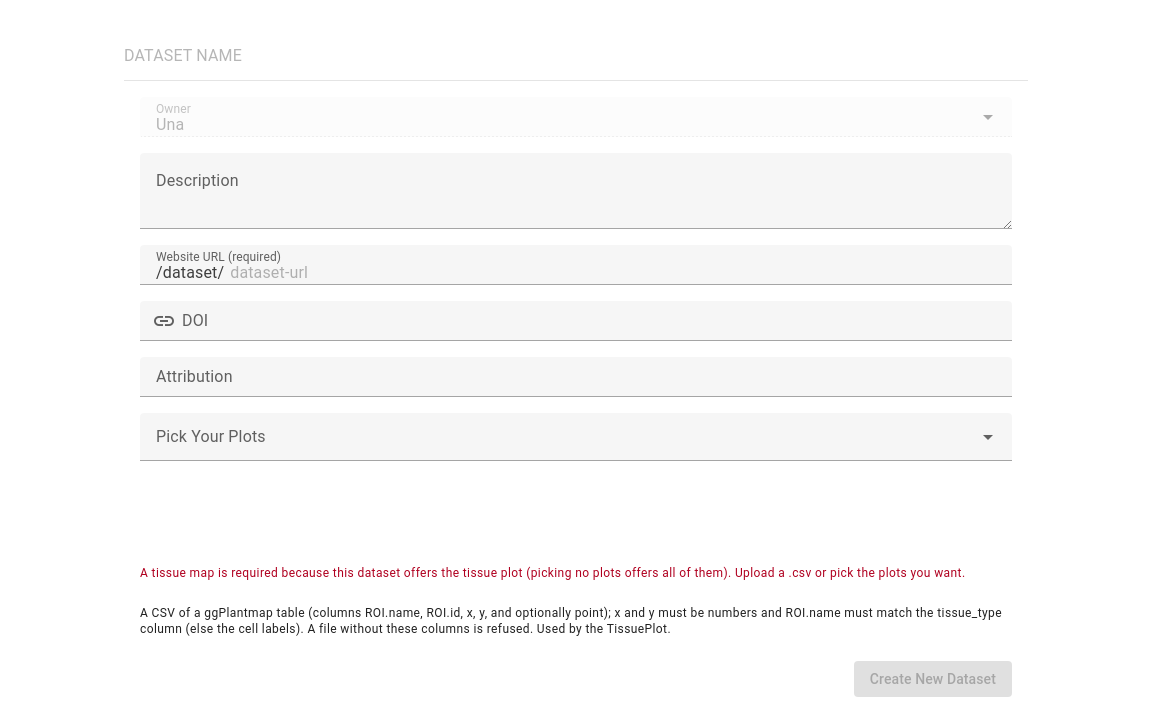
Test case: EditDatasetView: creating › names the problem with a reserved or malformed url and blocks saving
Type "Atlas" into the field with placeholder "DATASET NAME" at coordinates (576, 48), box 124,24 -> 1028,72
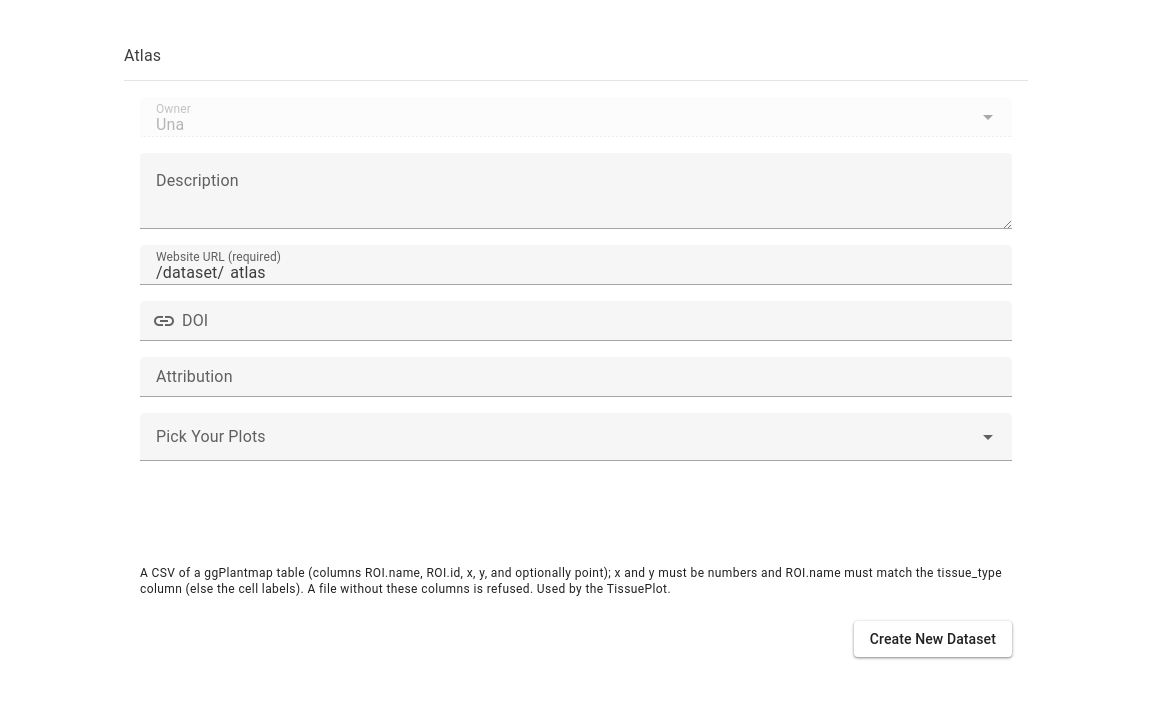
Expected: the button "Create New Dataset" is enabled, 854,621 -> 1012,657
Replace the text in the field with placeholder "dataset-url" with "new" at coordinates (618, 265), box 224,245 -> 1012,285
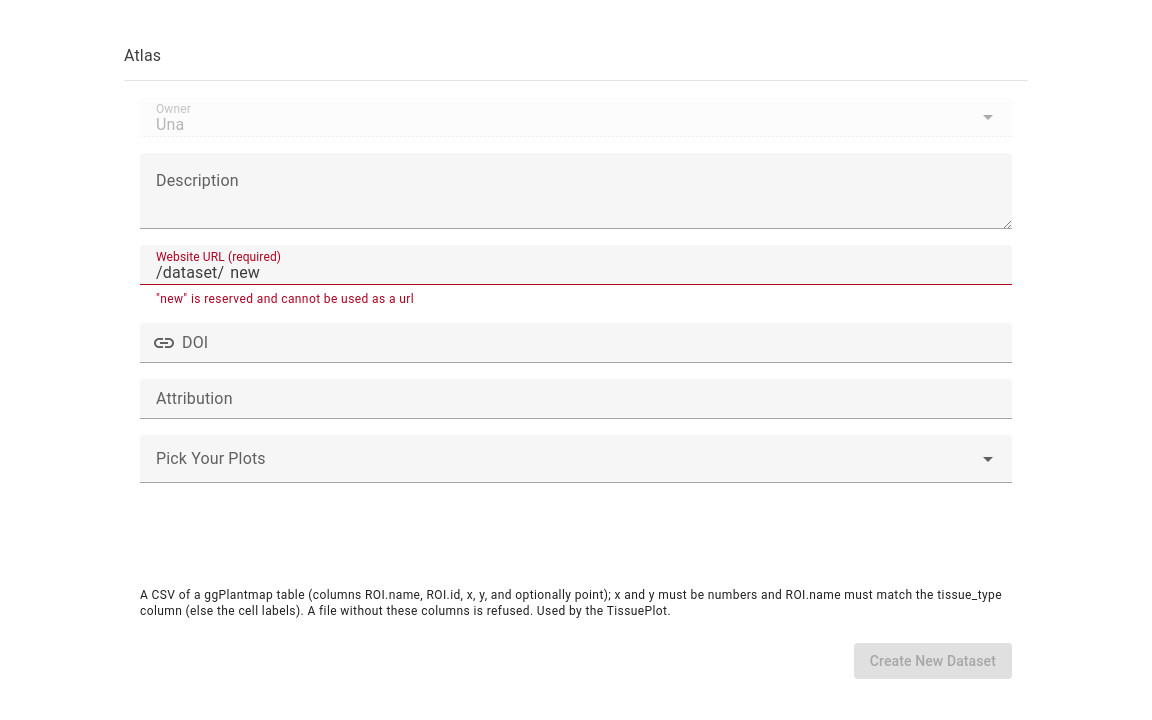
Expected: the text "is reserved" is shown, 156,292 -> 414,306
Expected: the button "Create New Dataset" is disabled, 854,643 -> 1012,679
// typed text is only normalised on save, so a messy url that slugifies to a usable one is accepted
Replace the text in the field with placeholder "dataset-url" with "My Atlas" at coordinates (618, 265), box 224,245 -> 1012,285
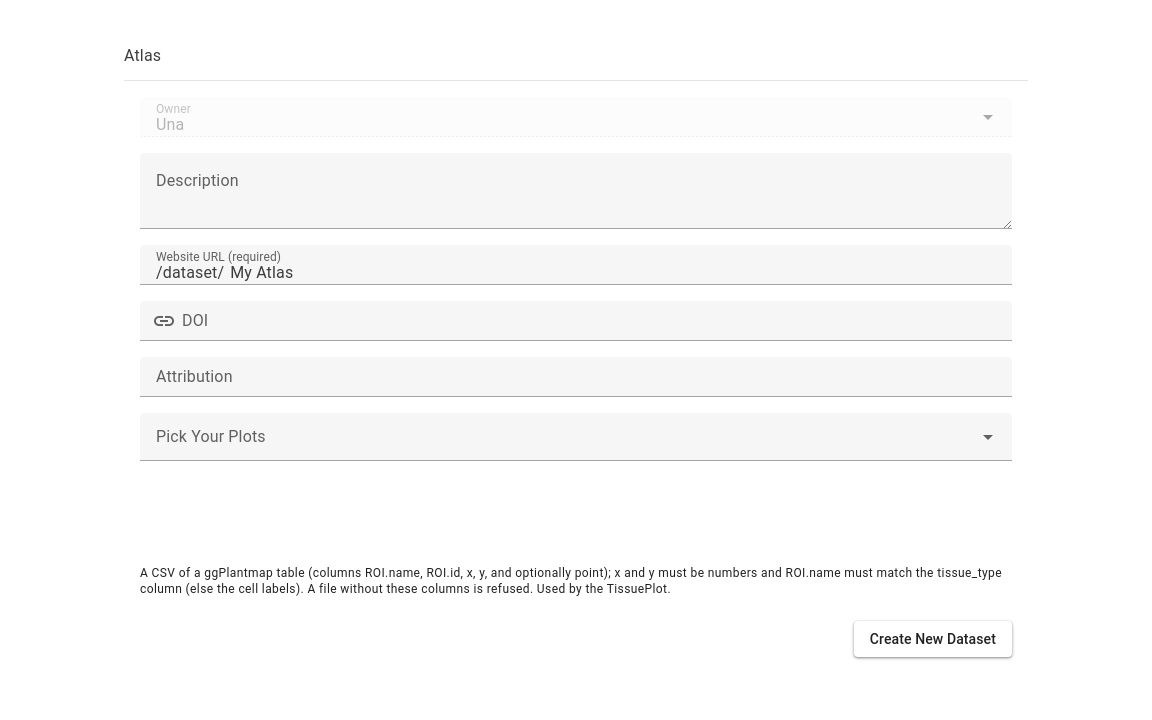
Expected: the button "Create New Dataset" is enabled, 854,621 -> 1012,657
Clear the field with placeholder "dataset-url" at coordinates (618, 265), box 224,245 -> 1012,285
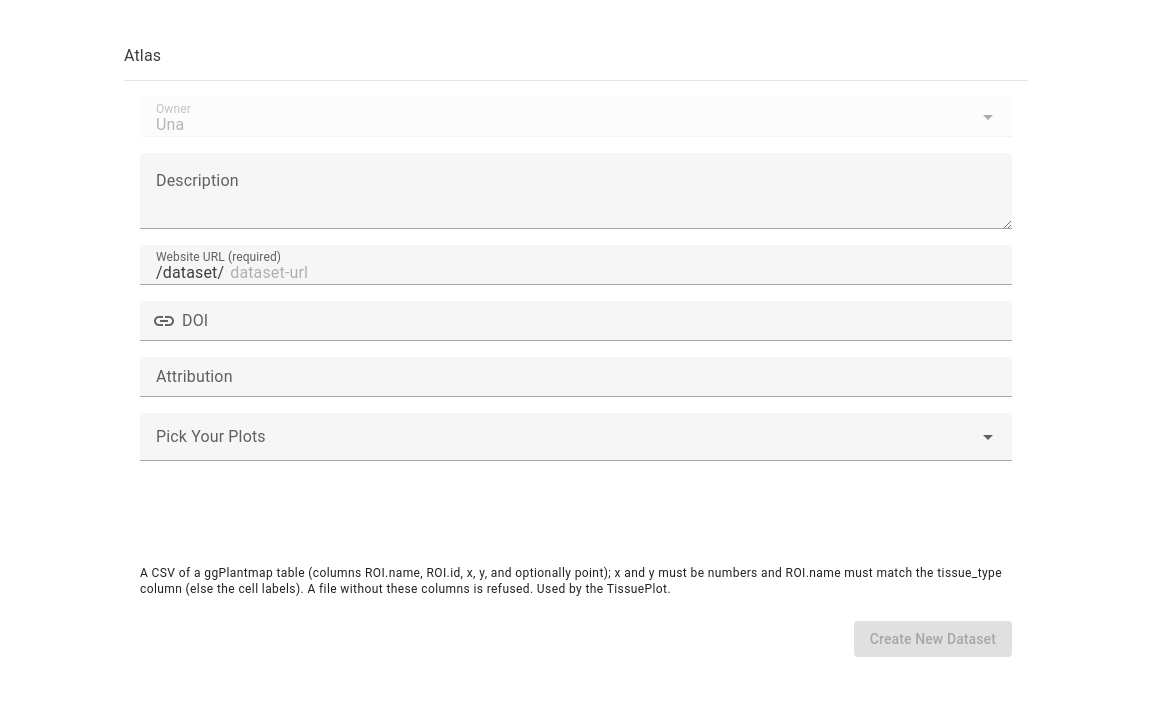
Expected: the button "Create New Dataset" is disabled, 854,621 -> 1012,657
